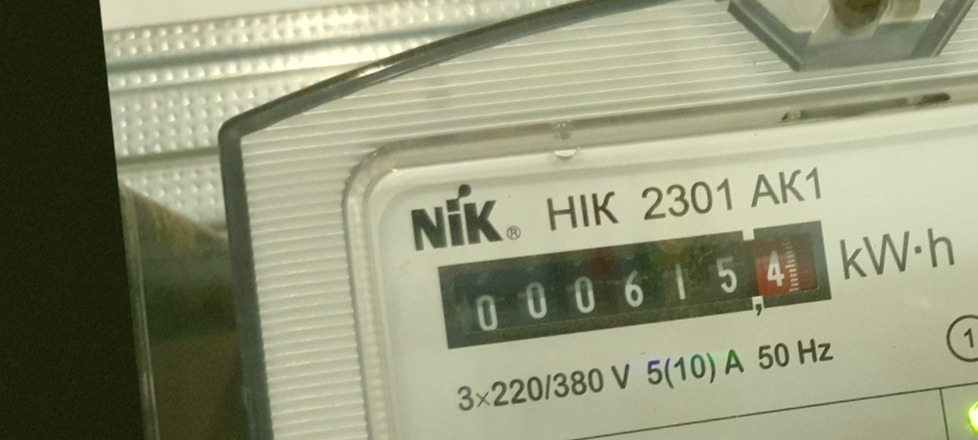0: (570, 272, 599, 317), (472, 290, 501, 334), (523, 279, 550, 321)
1: (672, 260, 689, 303)
4: (763, 247, 786, 289)
5: (714, 253, 741, 297)
6: (619, 267, 647, 310)
screen: (422, 208, 847, 363)
